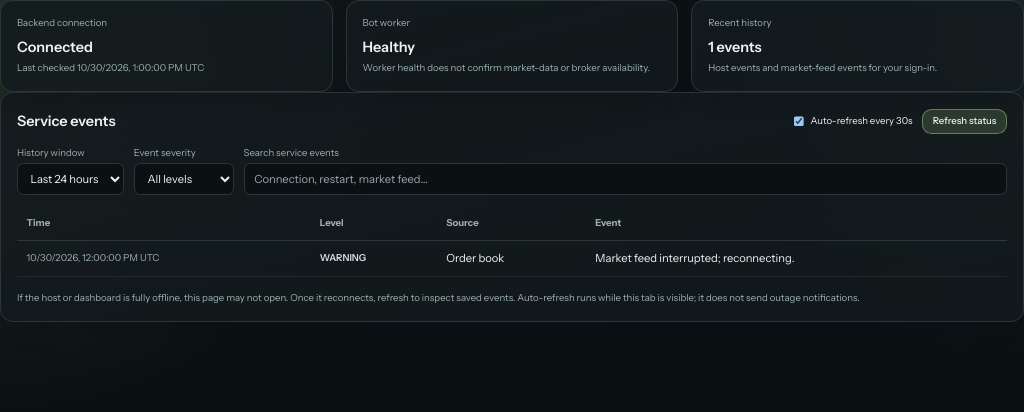
Scenario: service logs › keeps history clearly stale during failure, then recovers
Expected: the text "Healthy" is shown, [363, 38, 415, 56]
Click the button "Refresh status". click: click(965, 121)
box: [922, 109, 1007, 134]
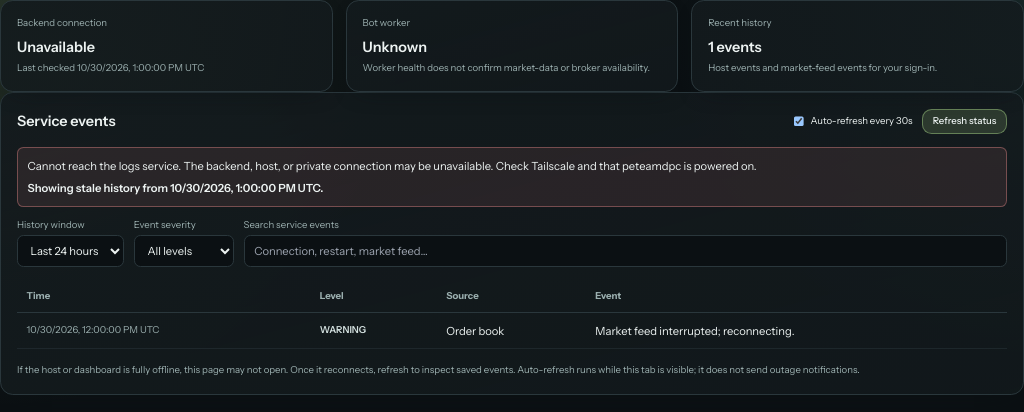
Expected: the message is shown, [17, 147, 1007, 207]
Expected: the text "Showing stale history from 10/30/2026, 1:00:00 PM UTC." is shown, [28, 181, 323, 195]
Expected: the text "Unknown" is shown, [363, 38, 427, 56]
Click the button "Refresh status". click: click(965, 121)
box: [922, 109, 1007, 134]
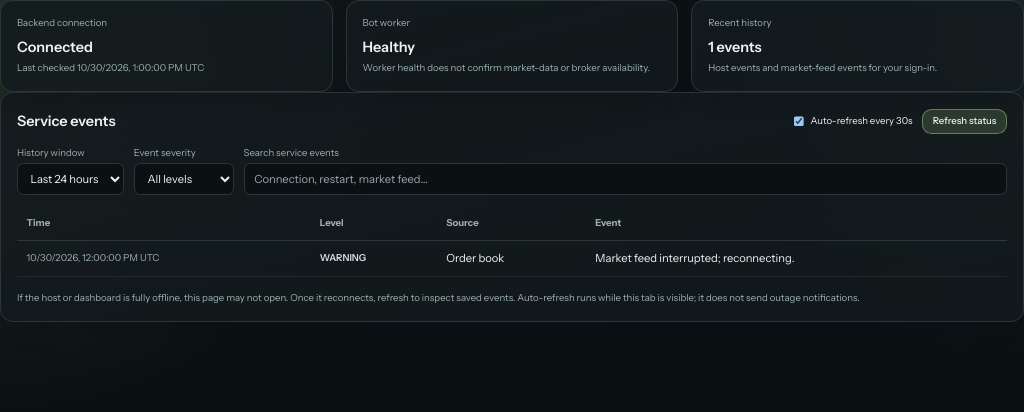
Expected: the message is gone
Expected: the text "Healthy" is shown, [363, 38, 415, 56]
